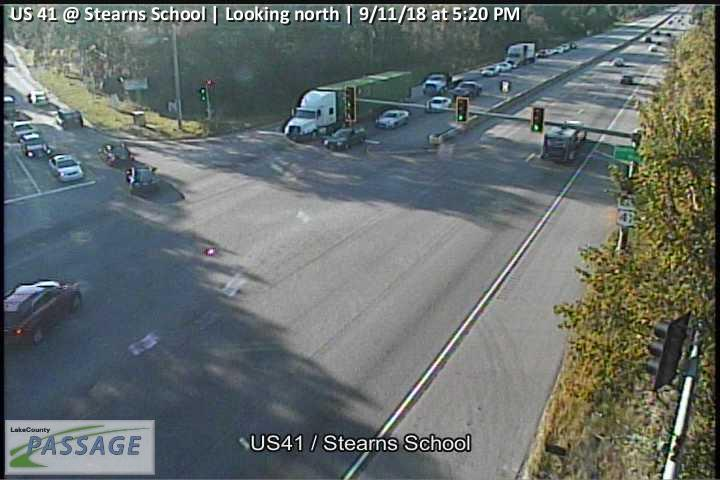Sedan: (1, 280, 83, 352), (321, 127, 367, 152), (48, 152, 83, 183), (123, 164, 158, 193), (15, 133, 54, 159), (94, 142, 133, 166), (419, 73, 452, 98), (374, 109, 409, 130), (448, 79, 483, 99), (54, 106, 84, 128), (9, 118, 41, 138), (423, 96, 451, 112), (28, 91, 49, 106), (477, 65, 501, 75), (497, 61, 513, 73)
Truck: (283, 70, 414, 141), (541, 119, 588, 159), (505, 40, 536, 67)
